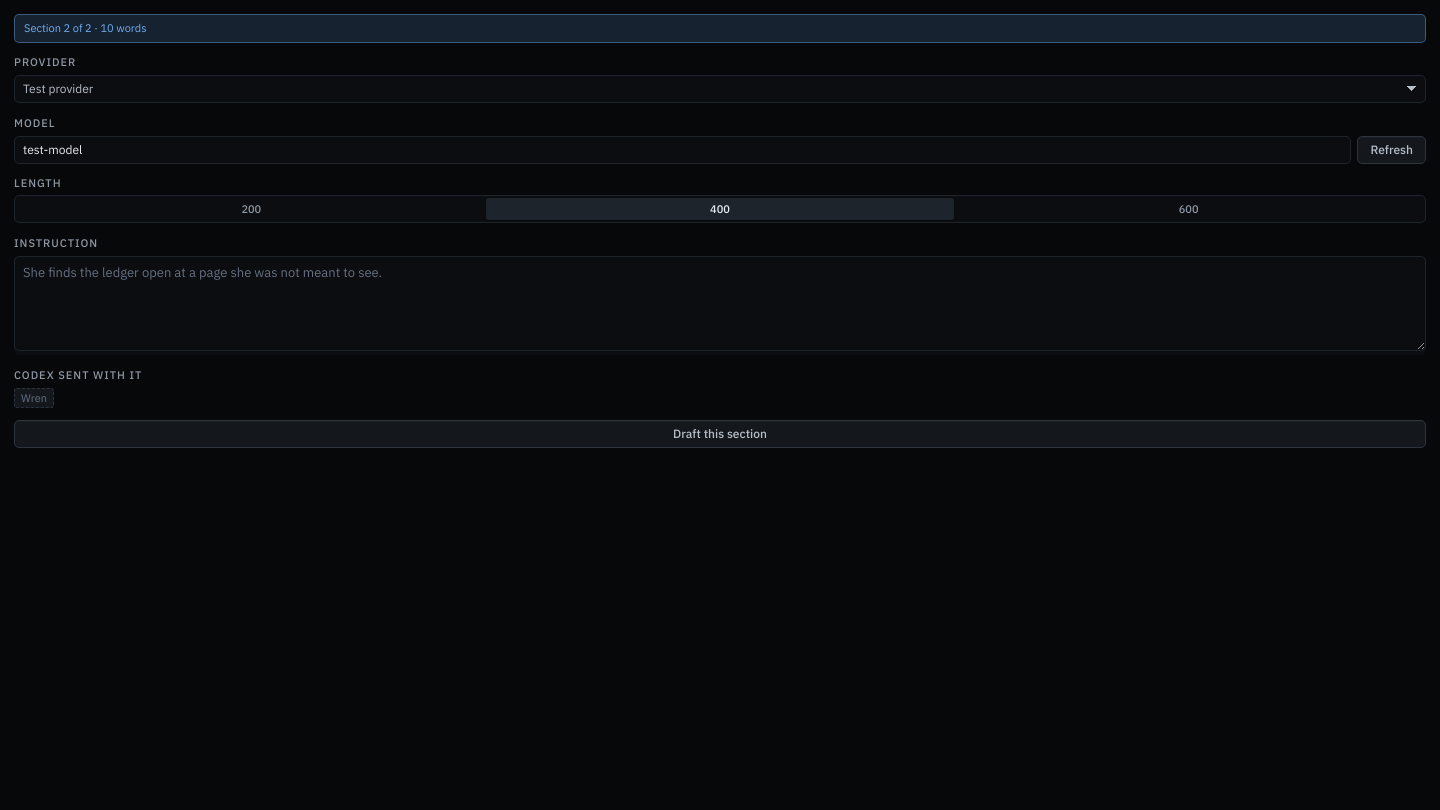
Test: WritePanel › shows a draft for review instead of applying it
Expected: the text "Section 2 of 2 · 10 words" is shown, [14, 14, 1426, 43]
Click the button "Draft this section".
click(720, 434)  # box [14, 420, 1426, 448]
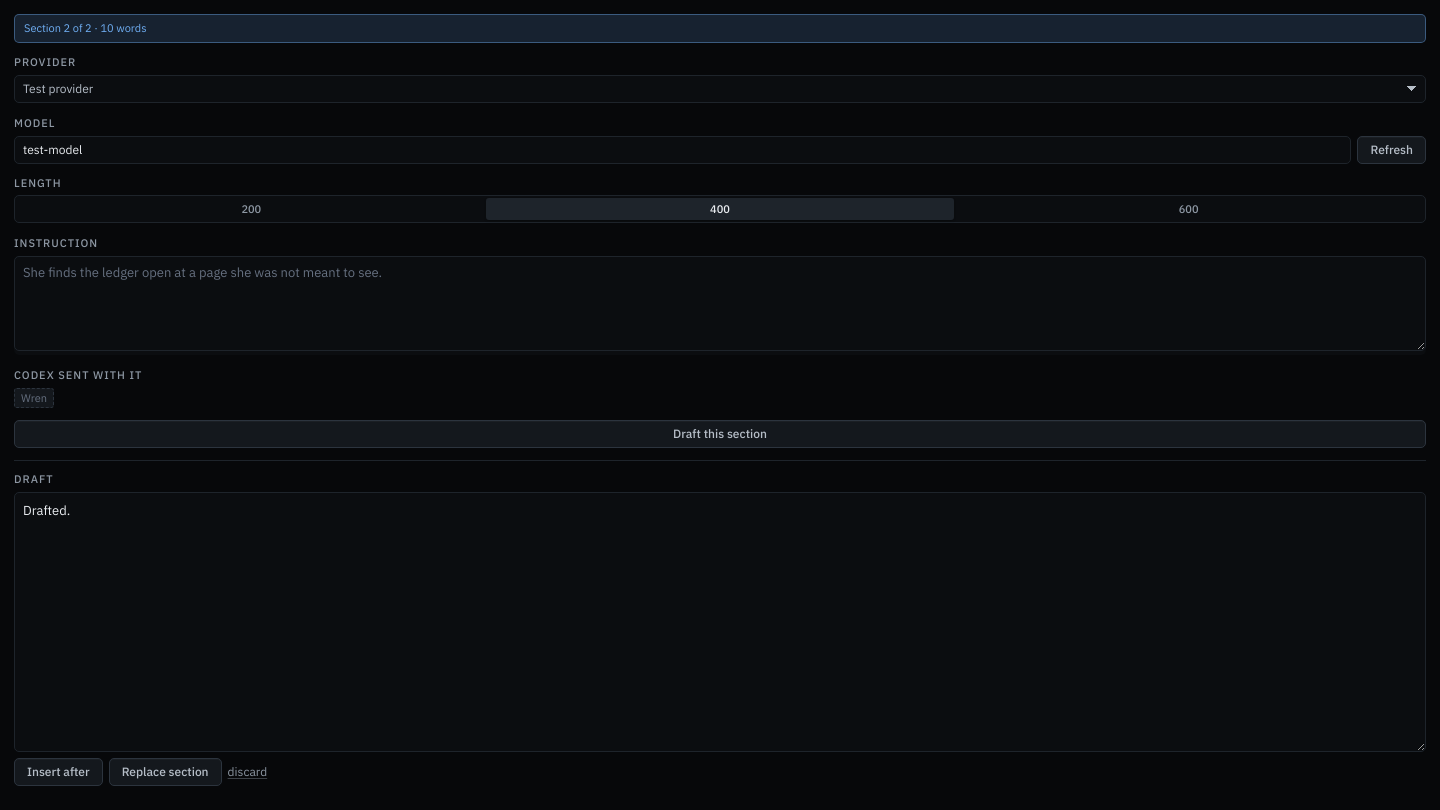
Expected: the text box showing "Drafted." is shown, [14, 492, 1426, 752]
